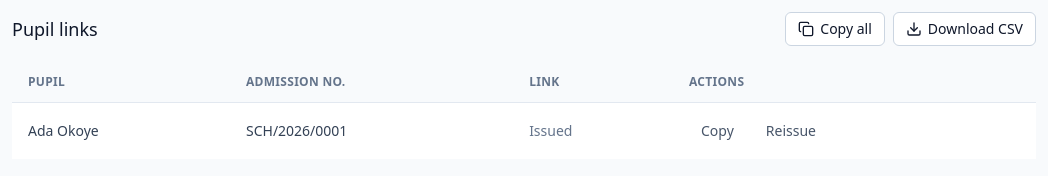
StudentLinksPanel › lists roster students and copies a link
The image size is (1048, 176).
Expected: the text "Ada Okoye" is shown, [12, 102, 230, 159]
Click the button "Copy". click: (717, 131)
box: [689, 115, 746, 147]
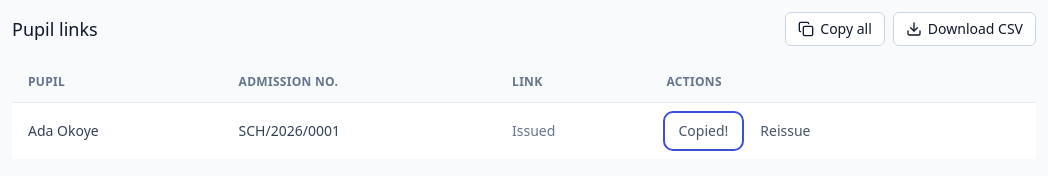
Now the button "Copied!" is shown, box [666, 115, 740, 147]
